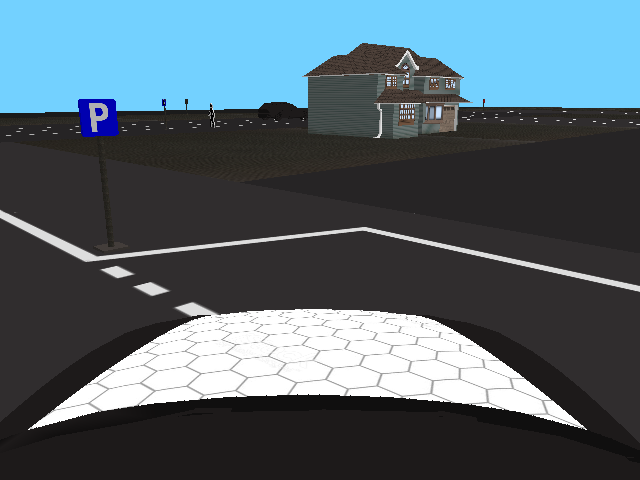parking: (77, 99, 119, 136)
